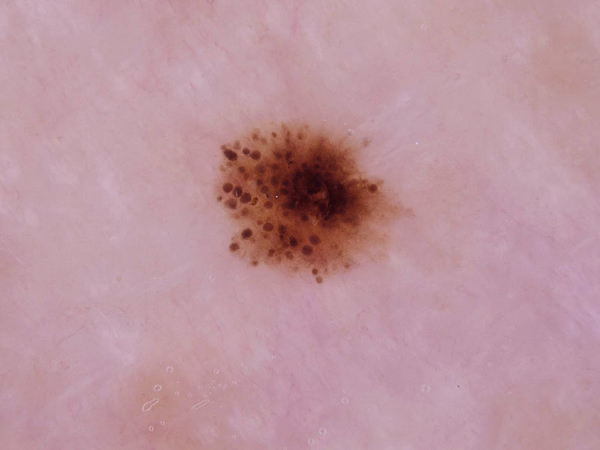Detected Lesion: (214, 120, 411, 288)
